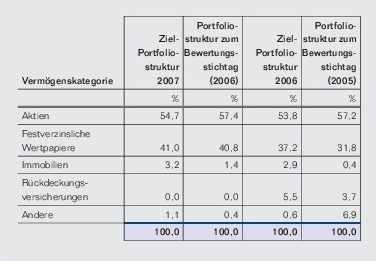table: (0, 0, 376, 261)
